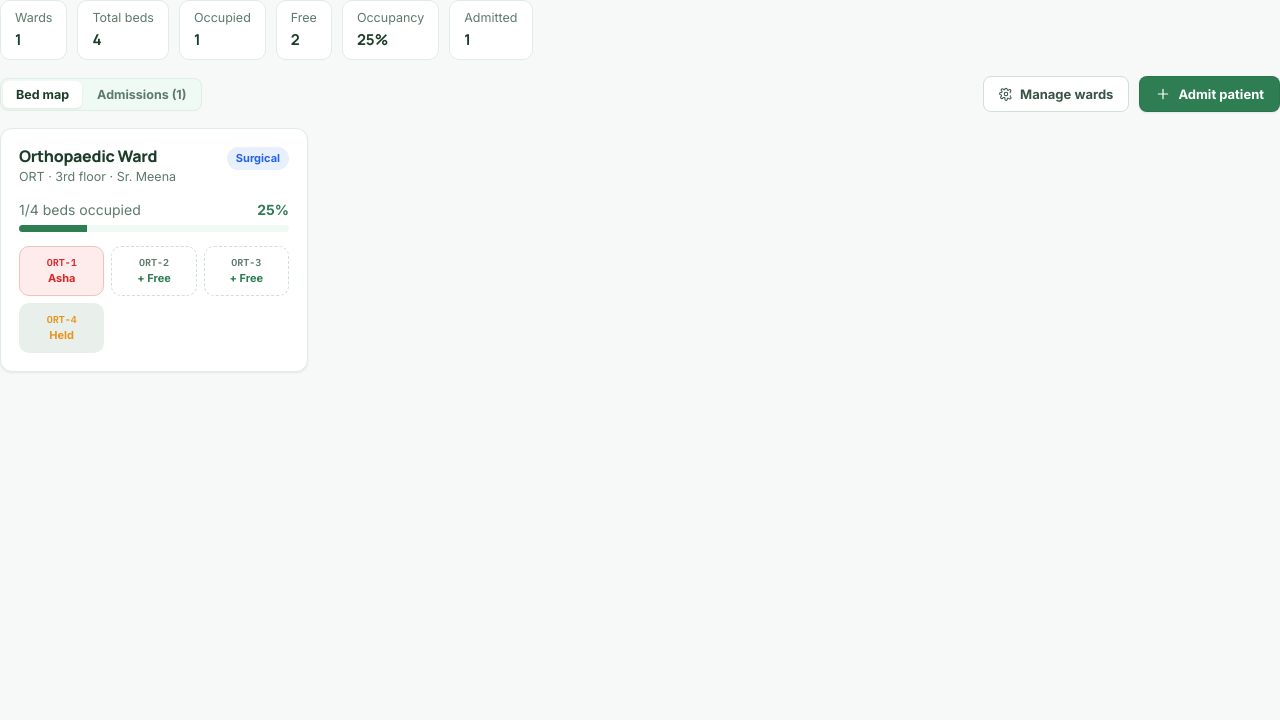
it: WardsPage › opens ward setup as a list and an editor
This screenshot has width=1280, height=720.
Click the button "Manage wards": click(1056, 94) [983,76,1129,112]
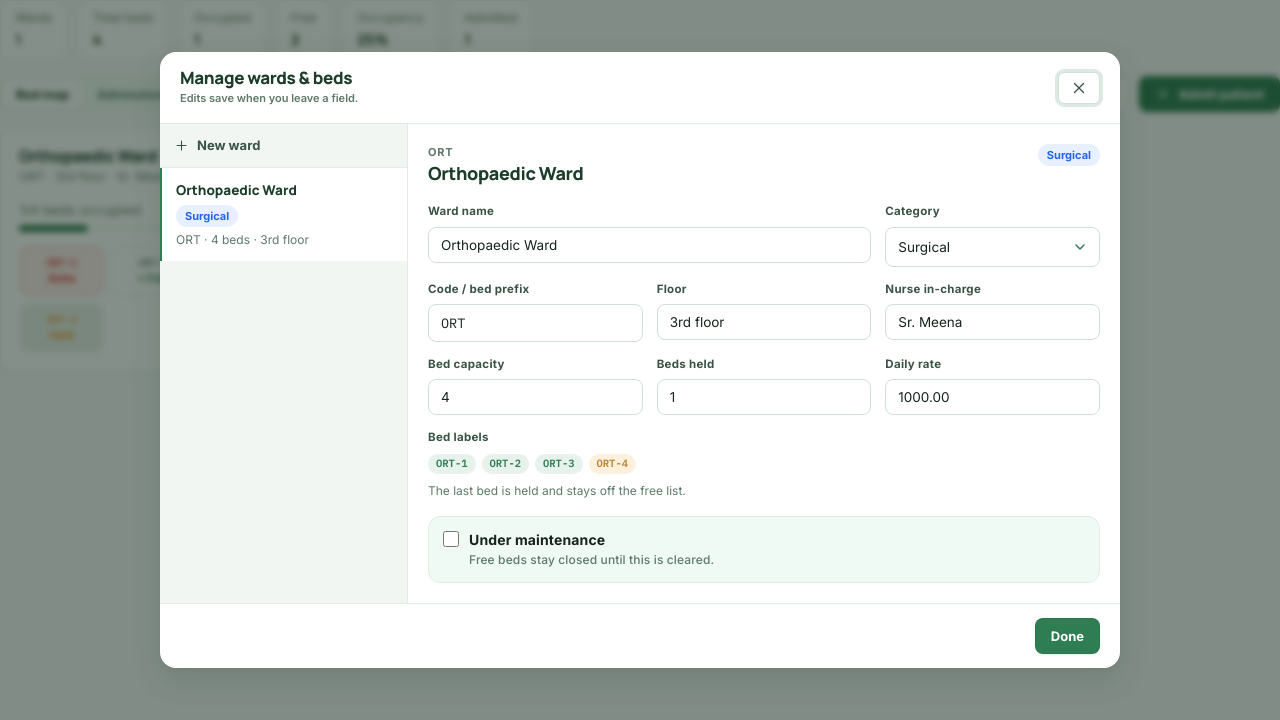
Expected: the dialog "Manage wards & beds" shows "Edits save when you leave a field.", [180,91,358,105]
Expected: the button "Orthopaedic Ward Surgical ORT · 4 beds · 3rd floor" is shown, [160,168,407,261]
Expected: the field labelled "Ward name" holds "Orthopaedic Ward", [428,227,871,263]
Click the button "New ward": click(284, 146) [160,124,407,168]
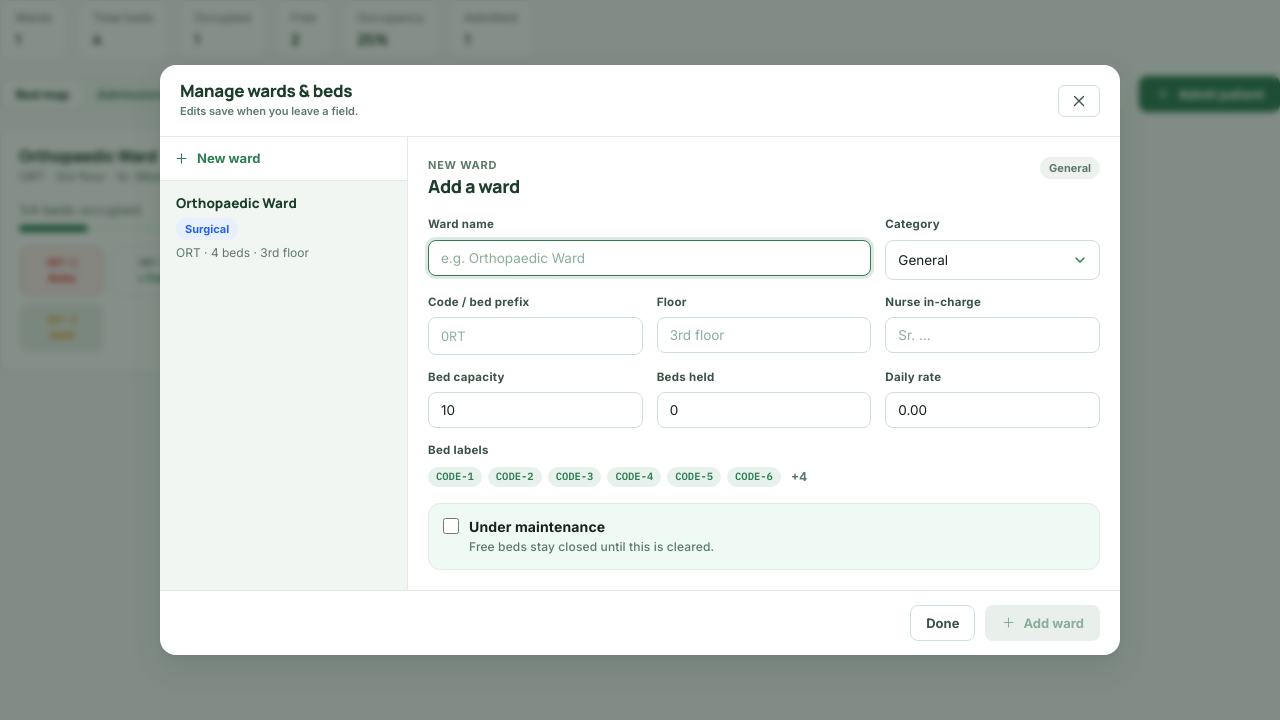
Expected: the field labelled "Ward name" is empty, [428,240,871,276]
Expected: the button "Add ward" is disabled, [985,605,1100,641]
